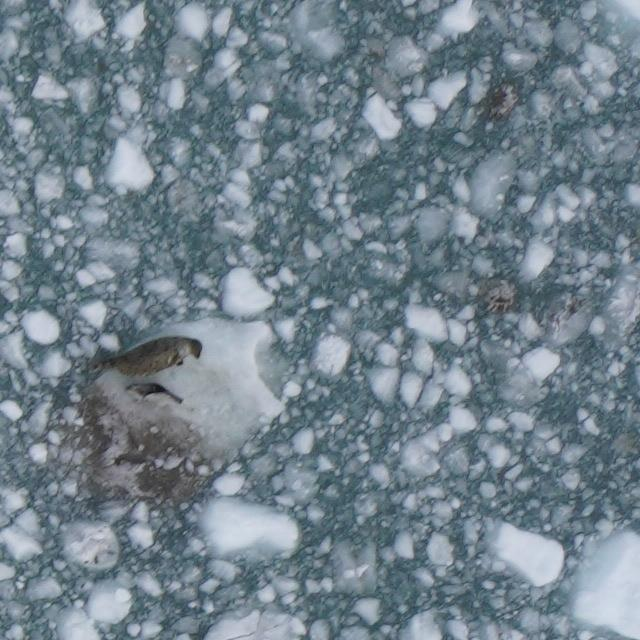seal: (88, 332, 206, 380), (121, 379, 190, 410)
